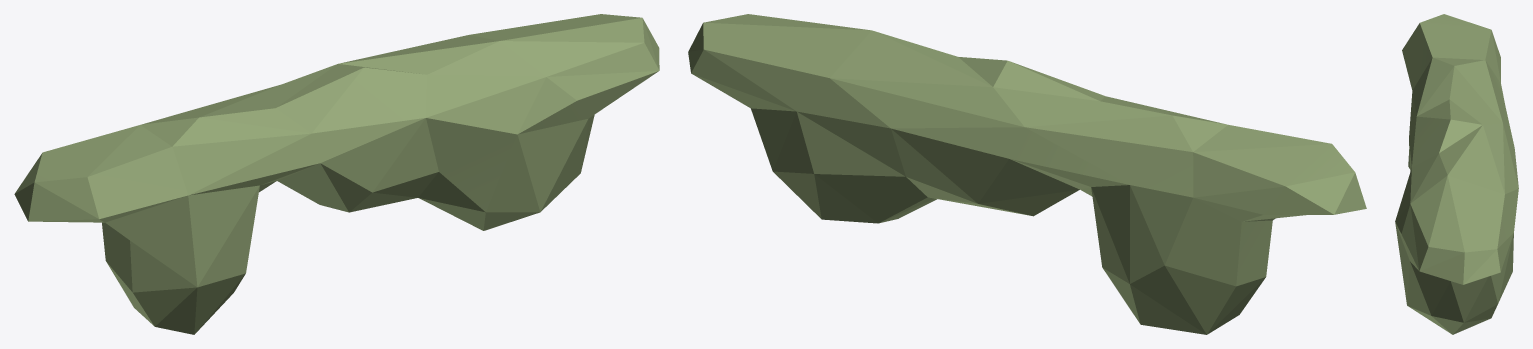
File: LightVegetationEdgeMediumWallTopperStraight1.fbx
3 views of the same model, side by side, from view 1: azimuth 30°, elevation 25°; view 2: azimuth 150°, elevation 25°; view 3: azimuth 270°, elevation 25° (orthographic). The views are drawn at different scales.
Parts seen in each view (by area): view 1: LightVegetationEdgeMediumWallTopperStraight1; view 2: LightVegetationEdgeMediumWallTopperStraight1; view 3: LightVegetationEdgeMediumWallTopperStraight1.
Part boxes in pixels (<box>): LightVegetationEdgeMediumWallTopperStraight1: <box>14,14,659,334</box>; LightVegetationEdgeMediumWallTopperStraight1: <box>688,14,1366,334</box>; LightVegetationEdgeMediumWallTopperStraight1: <box>1395,14,1518,334</box>.
Bounding box in the file's own units: 747 × 247 × 156.
